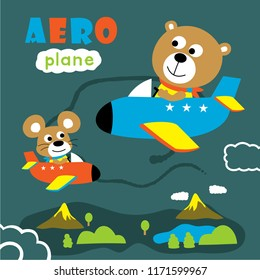animal: (144, 19, 232, 98), (19, 106, 87, 161)
